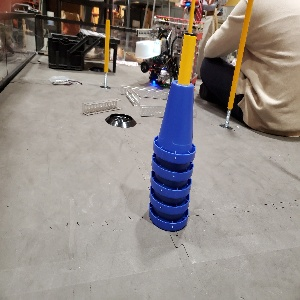Blue_5: (149, 80, 195, 231)
